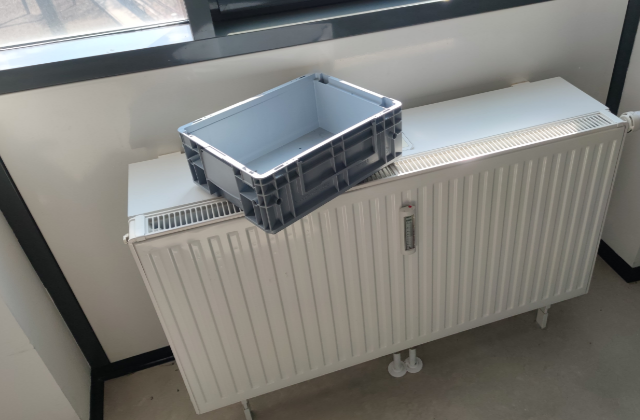Box: (176, 70, 403, 236)
